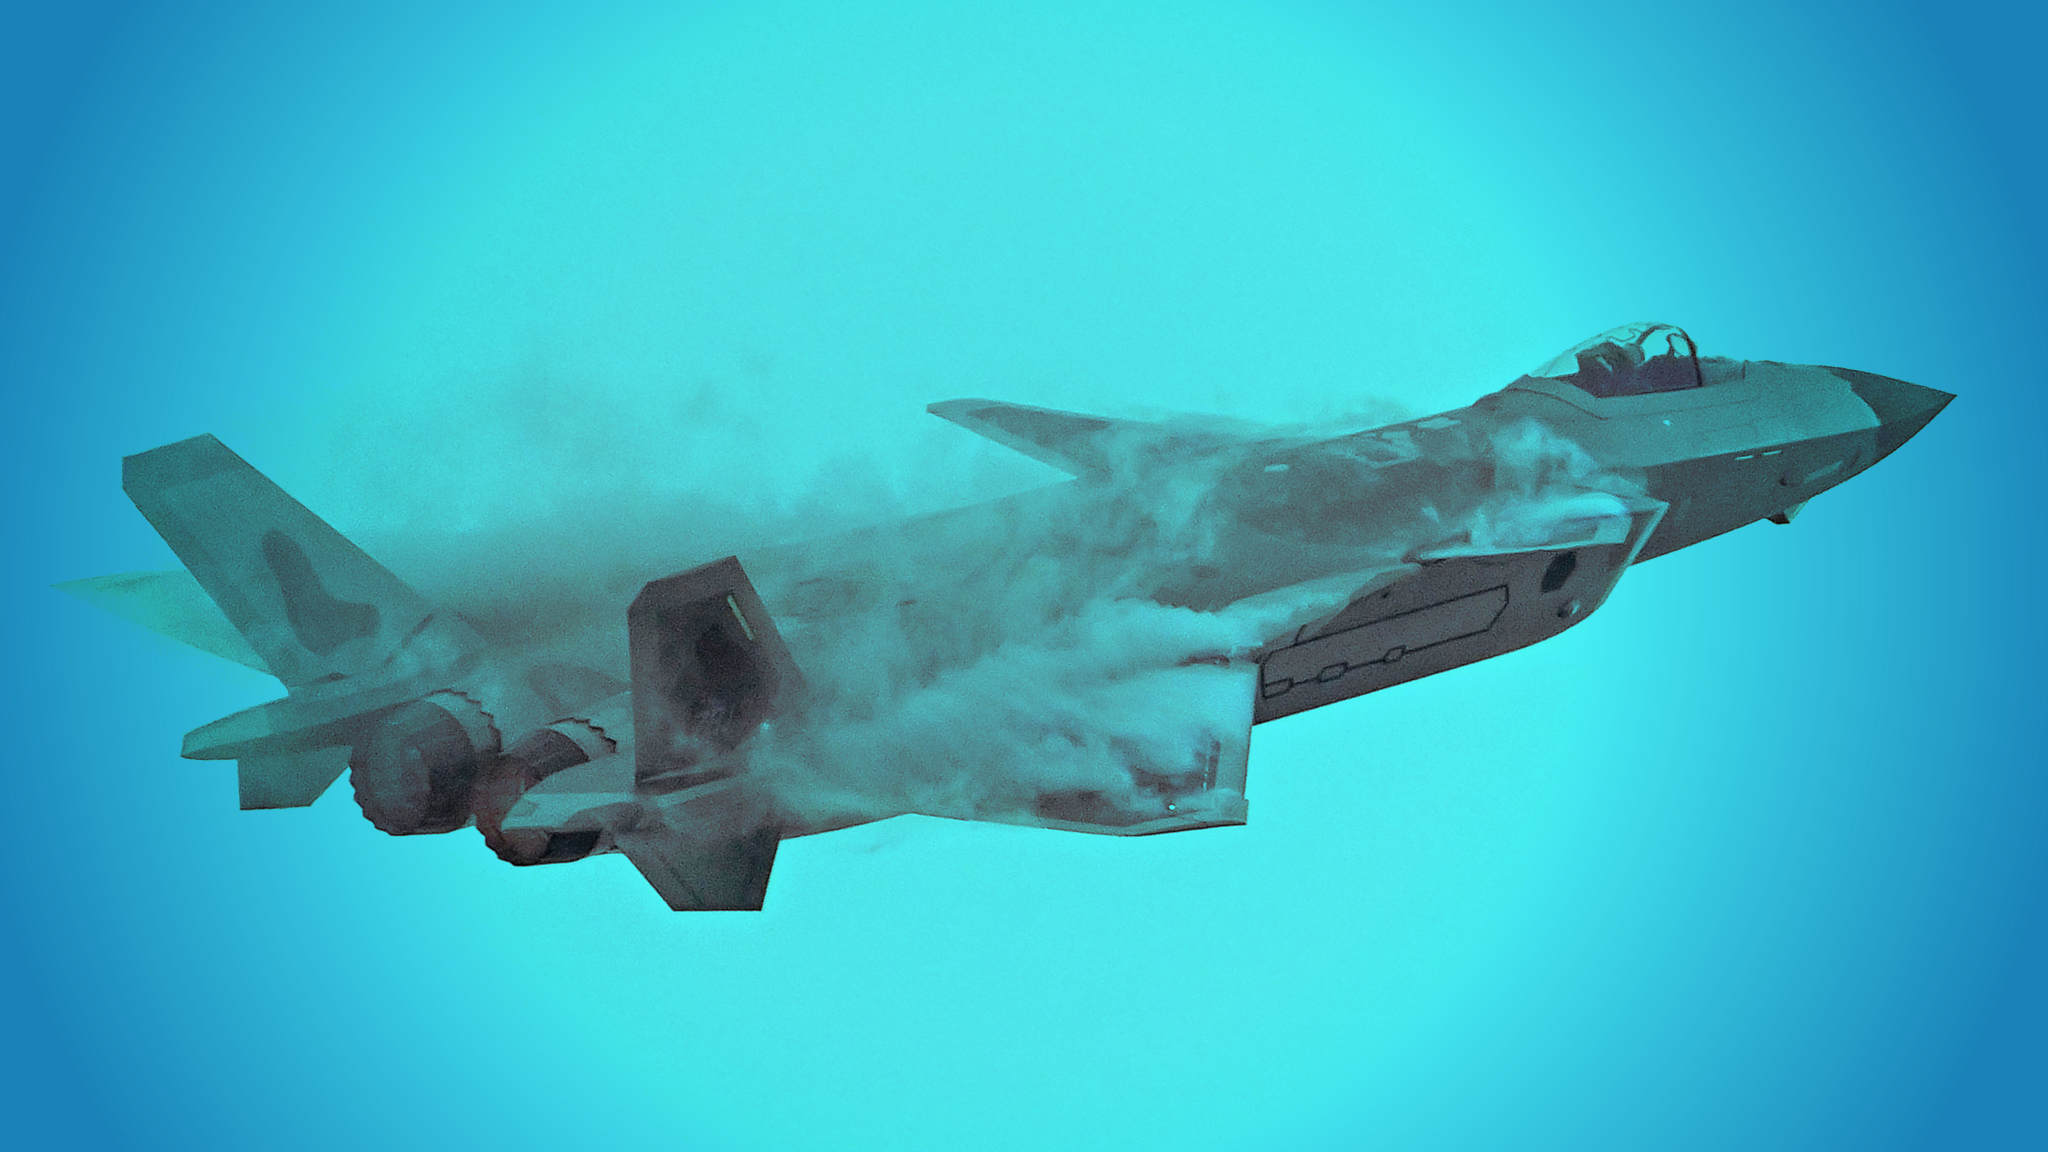J20: (49, 321, 1958, 911)
